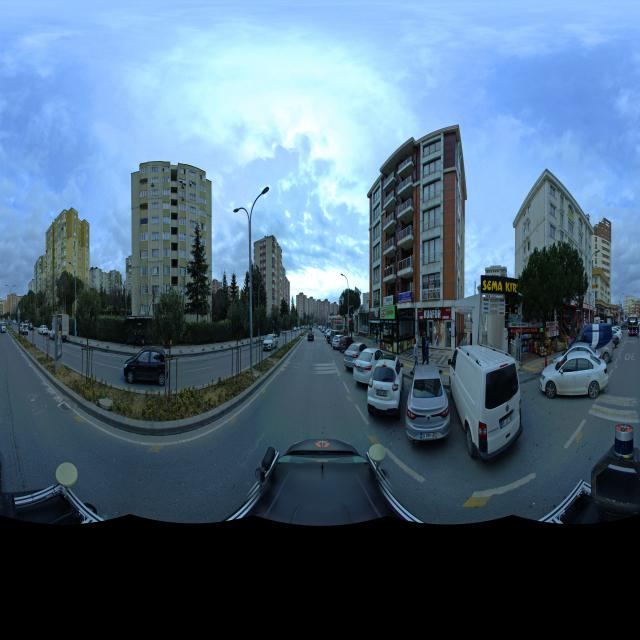SignStore: (480, 277, 518, 295), (418, 307, 451, 321), (380, 307, 395, 319), (509, 328, 539, 332), (358, 304, 369, 313), (583, 302, 589, 309), (369, 312, 375, 319), (335, 319, 342, 323), (590, 304, 593, 311), (611, 308, 616, 312), (349, 317, 351, 320)
